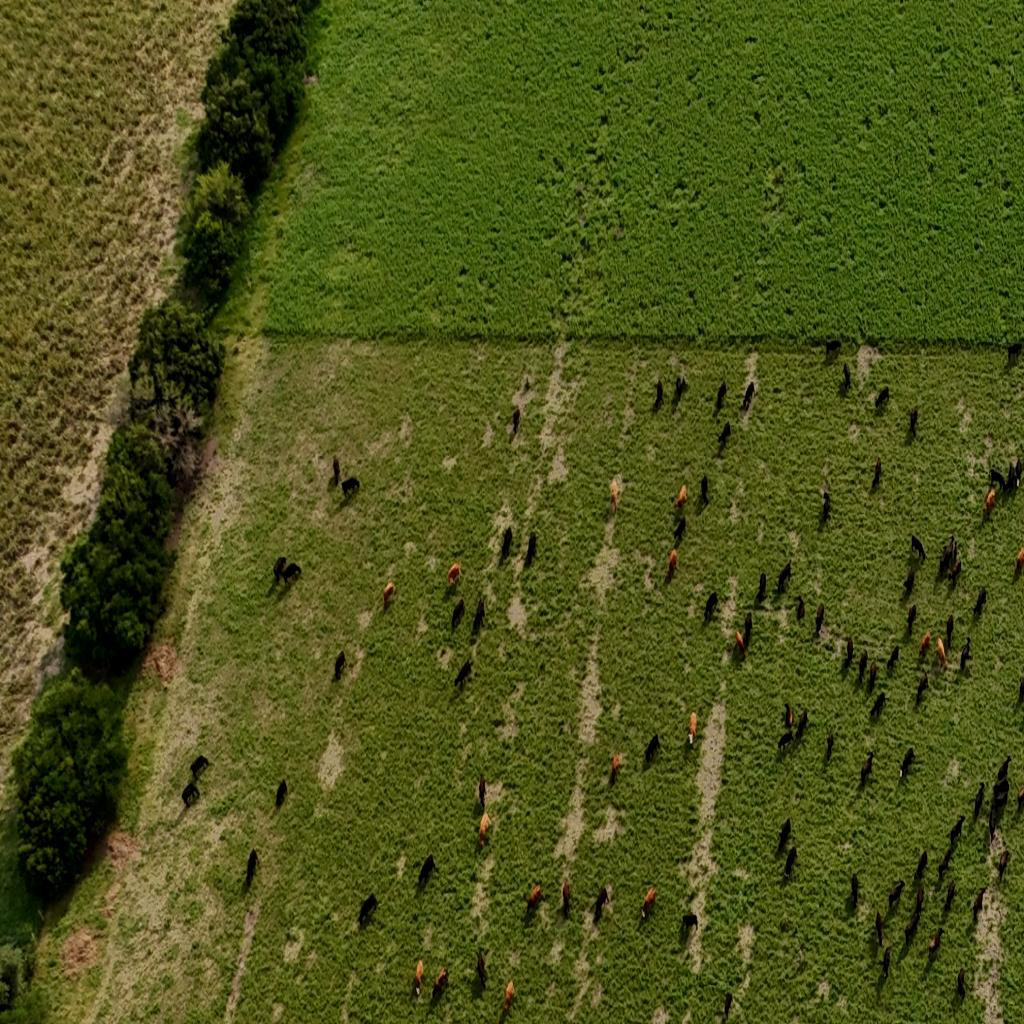cow: (984, 455, 1022, 511), (900, 882, 924, 946), (988, 772, 1010, 834), (775, 818, 798, 874), (850, 644, 876, 692), (938, 534, 960, 581), (872, 898, 886, 956), (358, 892, 376, 926), (430, 966, 448, 1000), (876, 944, 896, 974), (594, 886, 609, 923), (418, 854, 435, 886), (454, 659, 472, 689), (641, 886, 657, 918), (888, 878, 904, 910), (281, 562, 302, 586), (182, 780, 200, 808), (190, 754, 209, 780), (526, 884, 542, 914), (938, 846, 952, 880), (246, 848, 258, 886), (478, 810, 490, 848), (645, 733, 660, 763), (950, 815, 965, 845), (272, 556, 288, 584), (452, 598, 466, 630), (778, 561, 792, 593), (900, 748, 914, 780), (914, 848, 928, 880), (860, 751, 874, 783), (972, 888, 986, 920), (473, 596, 485, 632), (502, 980, 514, 1016), (974, 587, 988, 617), (870, 692, 885, 720), (928, 926, 942, 956), (501, 526, 513, 560), (998, 849, 1010, 883), (944, 878, 956, 912), (960, 637, 972, 671), (476, 949, 486, 989), (704, 592, 718, 620), (674, 484, 688, 512), (1006, 340, 1022, 364), (916, 674, 928, 706), (414, 959, 424, 997), (997, 755, 1011, 782), (114, 650, 128, 677), (526, 532, 537, 566), (718, 421, 732, 447), (742, 382, 755, 410), (912, 534, 926, 560), (342, 477, 360, 497), (276, 779, 288, 809), (334, 650, 346, 680), (786, 846, 798, 876), (688, 710, 698, 746), (562, 880, 572, 916), (974, 782, 984, 818), (682, 912, 698, 934), (777, 728, 793, 750), (876, 386, 890, 411), (448, 561, 462, 586), (919, 631, 931, 659), (950, 558, 962, 586), (888, 644, 900, 672), (797, 708, 808, 738), (904, 567, 916, 594), (937, 638, 947, 670), (611, 752, 621, 784), (907, 602, 917, 634), (1014, 546, 1024, 578), (674, 517, 686, 543), (478, 774, 486, 812), (654, 380, 664, 410), (826, 338, 842, 356), (744, 612, 752, 648), (873, 456, 882, 488), (916, 882, 925, 914), (717, 380, 727, 408), (722, 992, 732, 1020), (736, 630, 746, 658), (668, 548, 678, 576), (956, 969, 966, 997), (822, 491, 831, 522), (383, 581, 395, 604), (846, 634, 854, 668), (946, 613, 954, 647), (851, 873, 859, 907), (676, 374, 686, 401), (610, 478, 618, 511), (816, 603, 824, 635), (869, 659, 877, 691), (826, 730, 834, 762), (950, 536, 958, 568), (166, 456, 175, 484), (784, 702, 794, 727), (910, 406, 918, 436), (333, 455, 341, 485), (701, 474, 709, 504), (758, 571, 766, 601), (1014, 456, 1022, 486), (843, 362, 851, 391), (512, 405, 520, 433), (1016, 785, 1024, 810), (796, 597, 804, 621), (1018, 679, 1024, 705), (524, 376, 530, 392)
